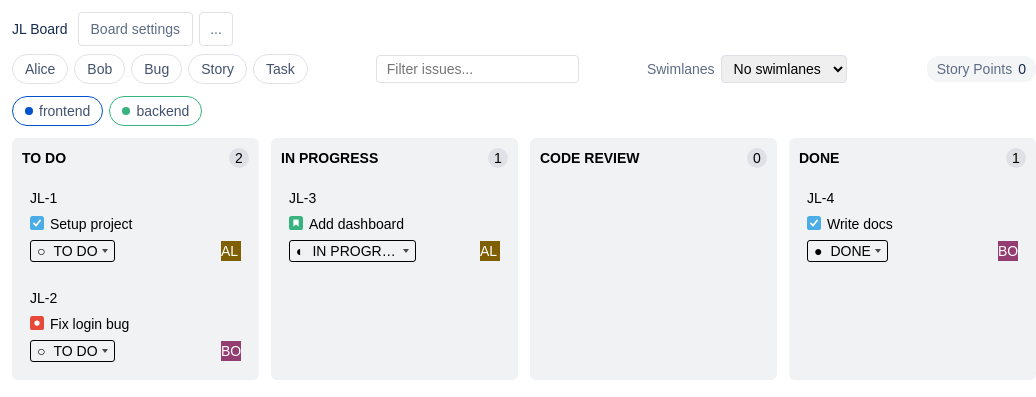
Test case: BoardPage — JL-239 label filtering › renders label chips from the project catalog and filters by label
The image size is (1036, 397).
Expected: the button "backend" is shown, [109, 96, 202, 126]
Click the button "frontend" at point(58, 111), box [12, 96, 103, 126]
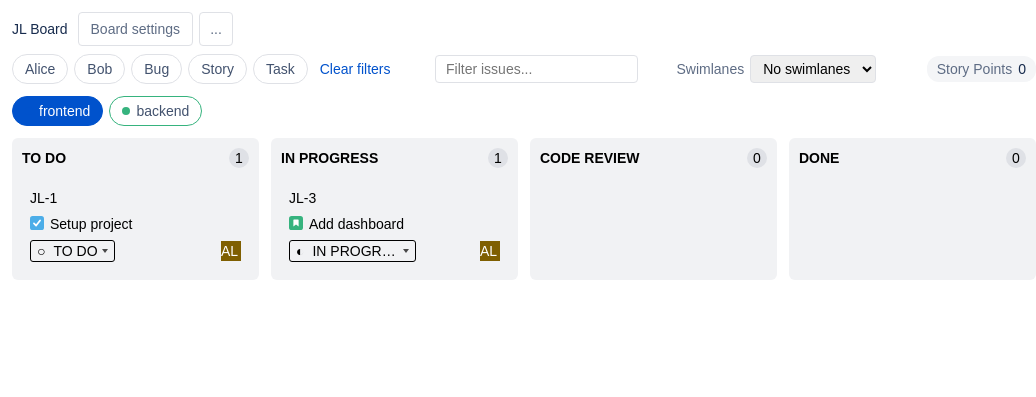
Expected: the text "Setup project" is shown, [50, 214, 132, 234]
Expected: the text "Fix login bug" is gone
Expected: the text "Write docs" is gone
